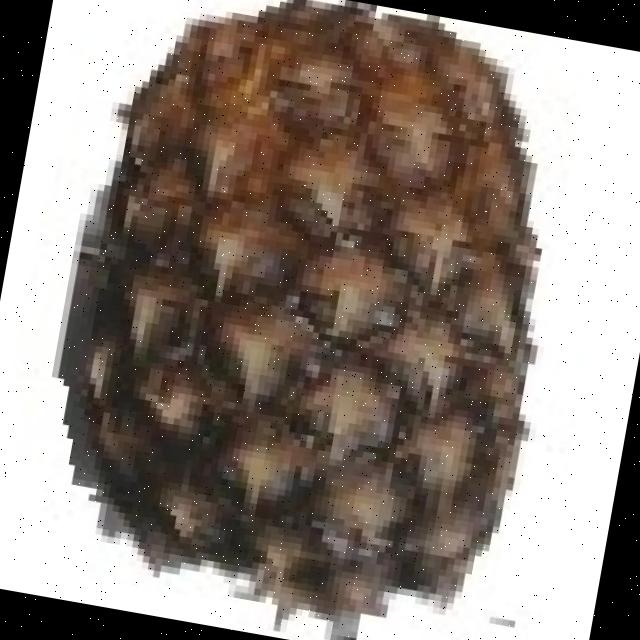pineapple: (78, 0, 548, 605)
